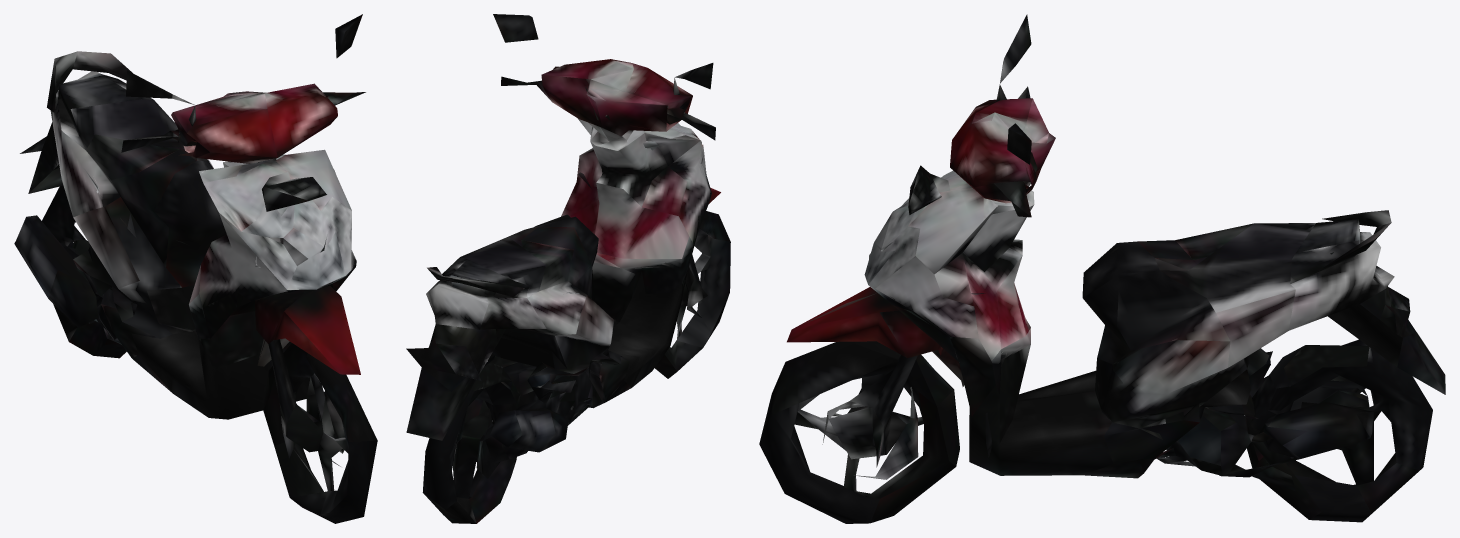
The model's file is motor_tanpa_penumpang_lod2.glb.
3 renders of one model, left to right at view 1: azimuth 30°, elevation 25°; view 2: azimuth 150°, elevation 25°; view 3: azimuth 270°, elevation 25°, orthographic. The views are drawn at different scales.
Parts seen in each view (by area): view 1: tripo_node_6e90d993; view 2: tripo_node_6e90d993; view 3: tripo_node_6e90d993.
Boxes of the visible parts, <box> form: tripo_node_6e90d993: <box>14,14,377,523</box>; tripo_node_6e90d993: <box>406,14,730,523</box>; tripo_node_6e90d993: <box>759,14,1445,523</box>.
Bounding box in the file's own units: 42.75 × 71.05 × 99.03.
Materials: 1 (1 with a texture image).
